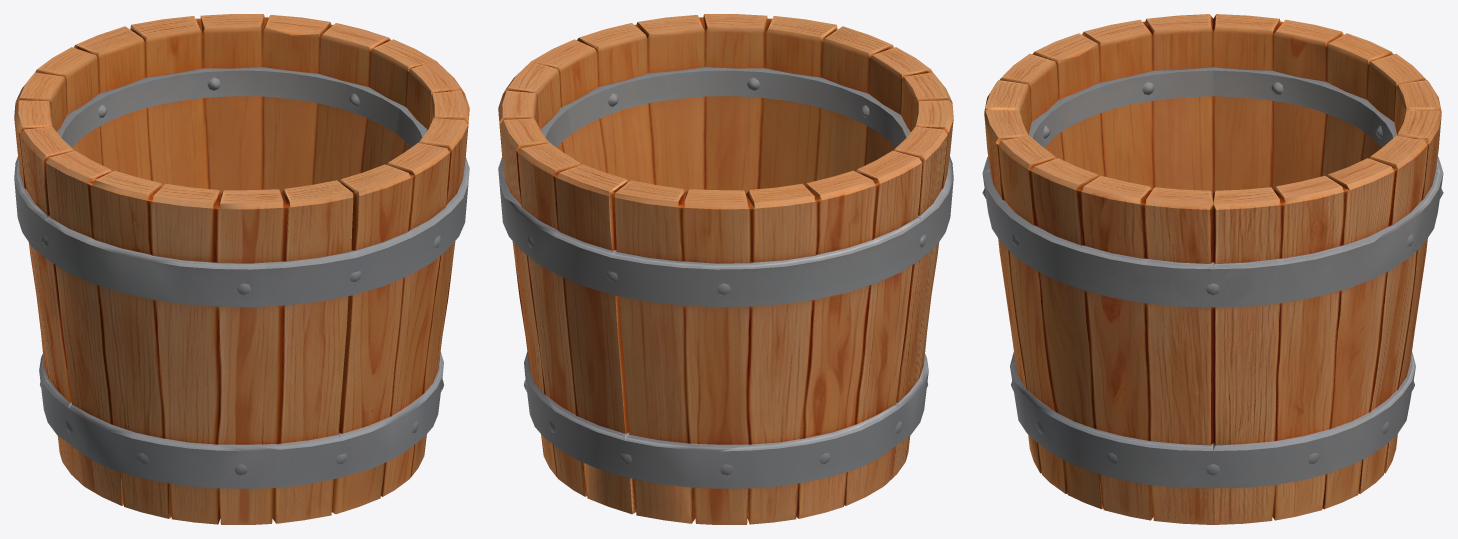
File: base_basic_pbr.fbx
The picture shows the model from 3 angles, left to right: view 1: azimuth 30°, elevation 25°; view 2: azimuth 150°, elevation 25°; view 3: azimuth 270°, elevation 25°; orthographic projection.
Parts seen in each view (by area): view 1: model; view 2: model; view 3: model.
Boxes of the visible parts, x1,y1,x2,y2 form: model: (14,14,469,524); model: (498,14,953,524); model: (982,14,1443,524).
Size of the model in its own units: 190 by 154 by 190.
Materials: 1 (1 with a texture image).
